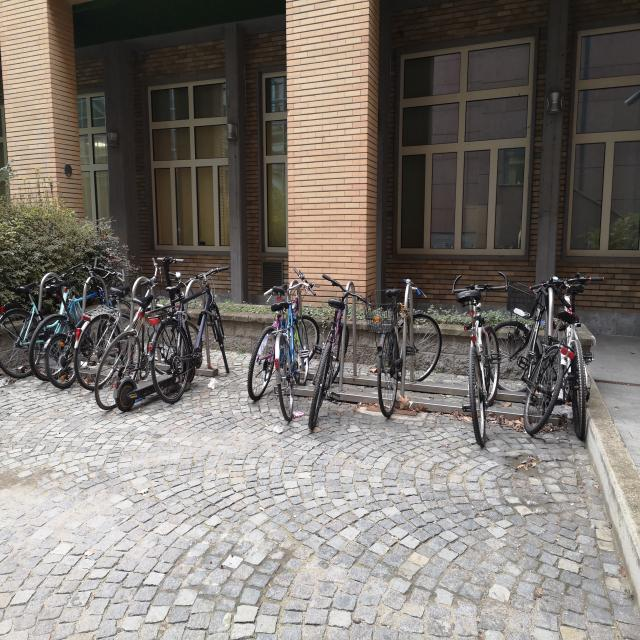Bicycle: (103, 249, 187, 423), (154, 246, 238, 419), (447, 256, 514, 470), (382, 265, 448, 441), (506, 259, 563, 456), (77, 267, 170, 387), (312, 260, 373, 438), (45, 255, 120, 396), (560, 259, 611, 453), (247, 256, 307, 419), (0, 257, 57, 412), (274, 256, 315, 432), (45, 277, 98, 355)
